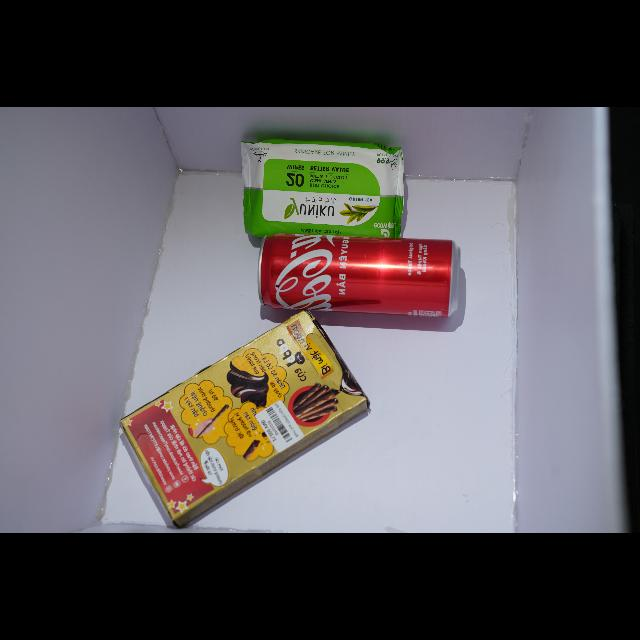banh_toppo_socola: (121, 311, 369, 527)
coca_cola: (260, 234, 459, 317)
khan_giay: (241, 138, 404, 238)
